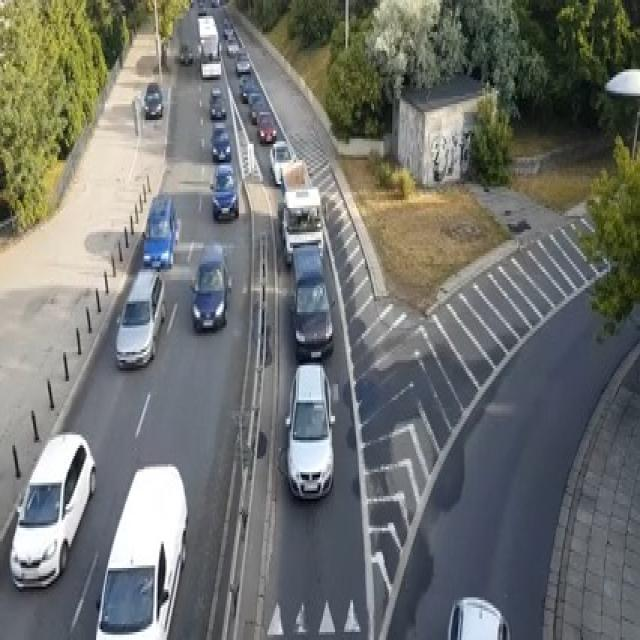car: (94, 462, 188, 638), (9, 430, 96, 590), (284, 360, 335, 499), (114, 267, 165, 368), (290, 243, 333, 357), (190, 242, 232, 330), (281, 187, 323, 264), (141, 192, 179, 269), (446, 595, 511, 637), (209, 163, 237, 221), (269, 139, 294, 184), (200, 35, 221, 77), (141, 80, 164, 117), (210, 125, 232, 160), (257, 109, 276, 144), (240, 75, 260, 101), (209, 86, 225, 118), (251, 96, 267, 123), (234, 50, 251, 74), (225, 35, 239, 56), (179, 43, 192, 64), (222, 16, 233, 37), (239, 72, 251, 91), (197, 0, 206, 13), (210, 0, 228, 5)
